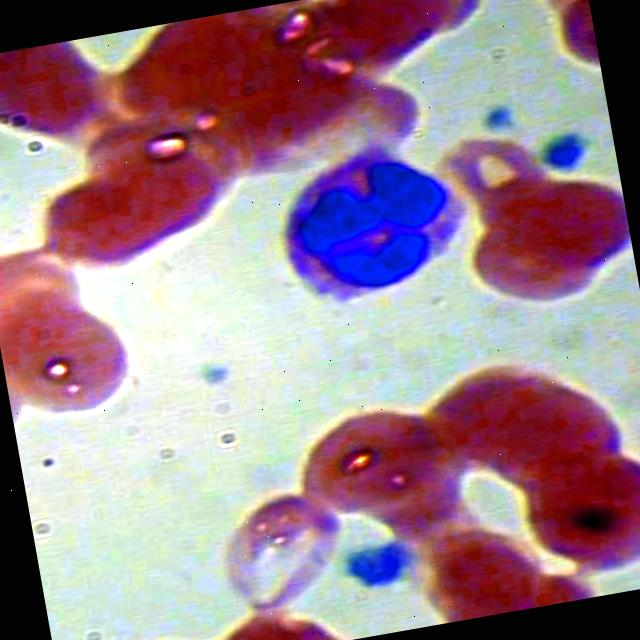Platelets: (332, 532, 418, 602), (528, 124, 596, 180), (468, 90, 529, 144)
RBC: (190, 482, 362, 624), (288, 392, 462, 528), (502, 425, 640, 591), (0, 293, 144, 430), (504, 168, 635, 284)
WBC: (237, 120, 496, 337)
